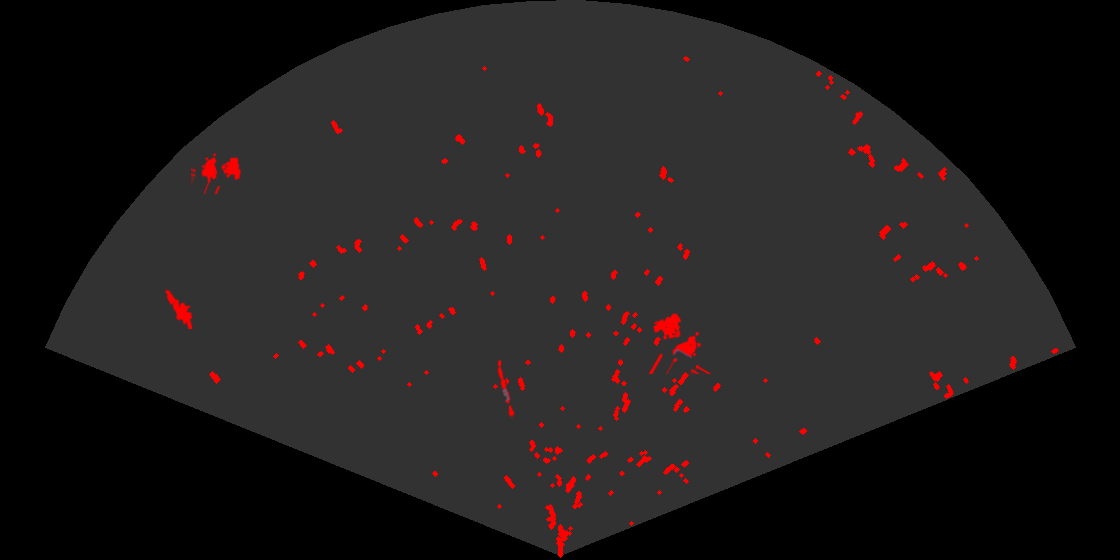cage: (647, 312, 713, 374), (191, 151, 243, 194)
chain: (496, 357, 516, 419)
frogman: (164, 286, 195, 329)
